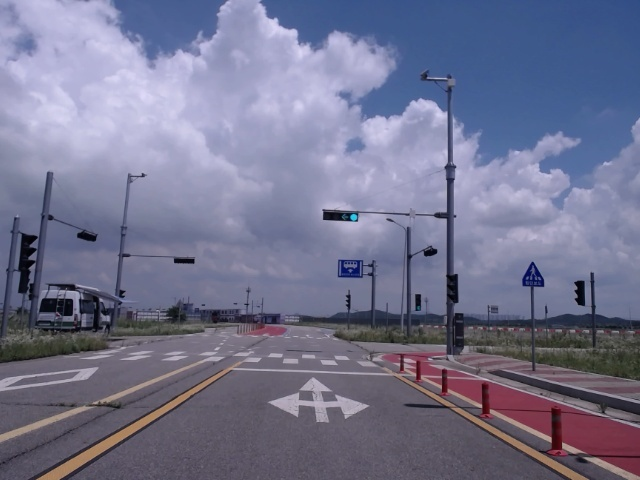all_green_4: (321, 205, 358, 221)
